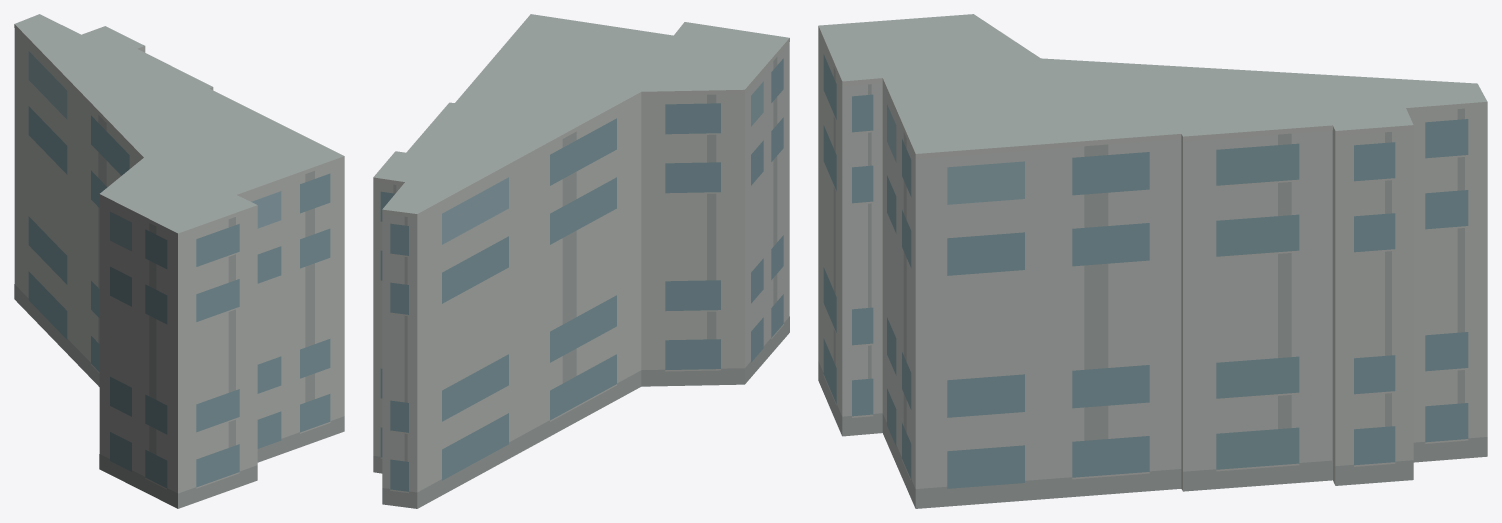
File: survey-upis-32901380.glb
The picture shows the model from 3 angles, left to right: view 1: azimuth 30°, elevation 25°; view 2: azimuth 150°, elevation 25°; view 3: azimuth 270°, elevation 25°; orthographic projection. The views are drawn at different scales.
Visible parts, largest first — view 1: survey-upis-32901380.tmp; view 2: survey-upis-32901380.tmp; view 3: survey-upis-32901380.tmp.
Boxes of the visible parts, x1,y1,x2,y2 form: survey-upis-32901380.tmp: [14, 14, 344, 508]; survey-upis-32901380.tmp: [373, 14, 789, 508]; survey-upis-32901380.tmp: [818, 14, 1487, 508].
Size of the model in its own units: 14.38 by 17 by 29.06.
